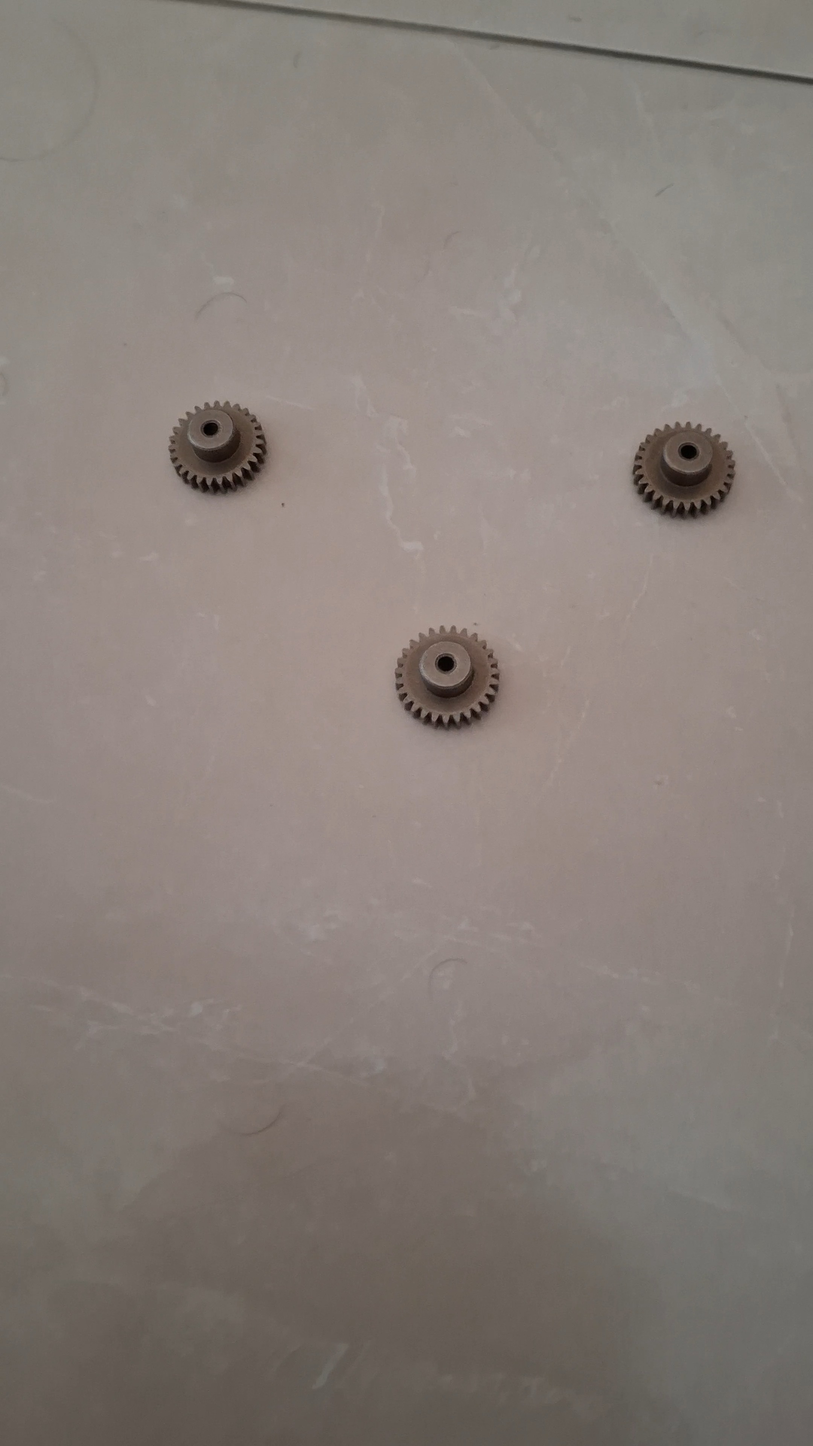spur gear: (395, 627, 499, 728), (633, 424, 734, 515), (169, 402, 266, 492)
